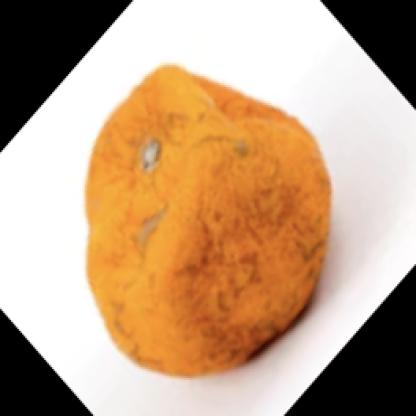rotten: (85, 66, 331, 383)
